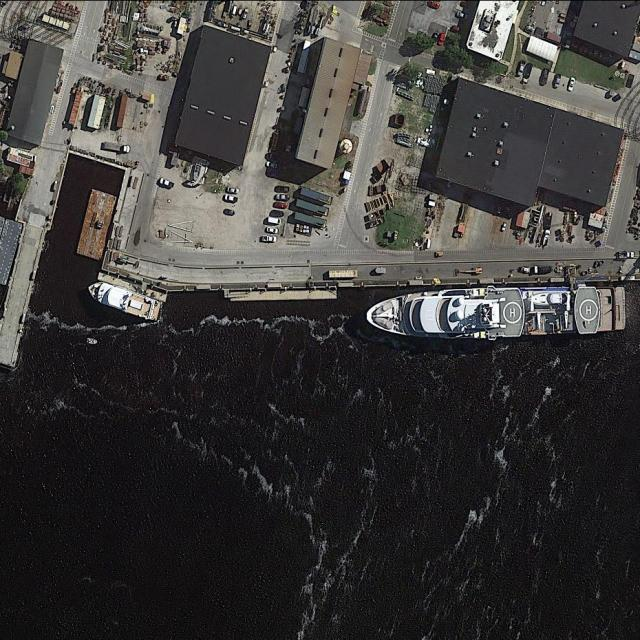Yacht: (367, 284, 627, 339), (84, 277, 164, 321)
